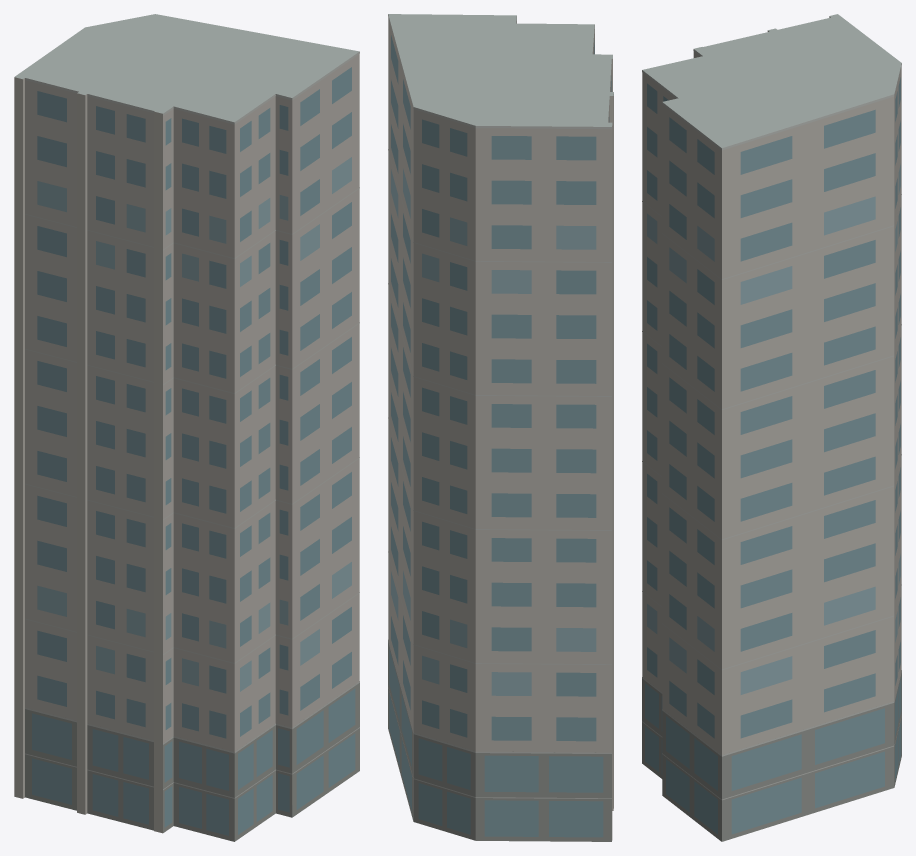
The model's file is survey-upis-32849342.glb.
3 views of the same model, side by side, from view 1: azimuth 30°, elevation 25°; view 2: azimuth 150°, elevation 25°; view 3: azimuth 270°, elevation 25° (orthographic). The views are drawn at different scales.
Parts seen in each view (by area): view 1: survey-upis-32849342.tmp; view 2: survey-upis-32849342.tmp; view 3: survey-upis-32849342.tmp.
Part boxes in pixels (bbox=[...]): survey-upis-32849342.tmp: bbox=[14, 14, 359, 841]; survey-upis-32849342.tmp: bbox=[388, 14, 613, 841]; survey-upis-32849342.tmp: bbox=[642, 14, 901, 841].
Size of the model in its own units: 31.37 by 75.5 by 25.63.
